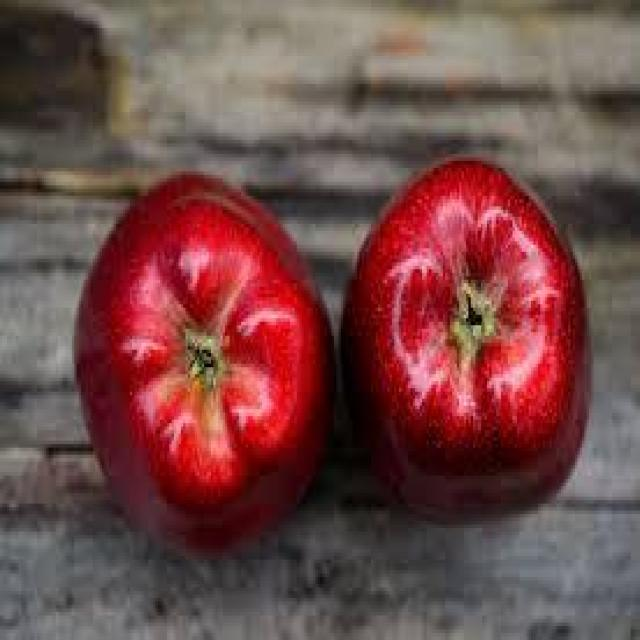apple: (72, 175, 334, 552), (350, 150, 591, 524)
